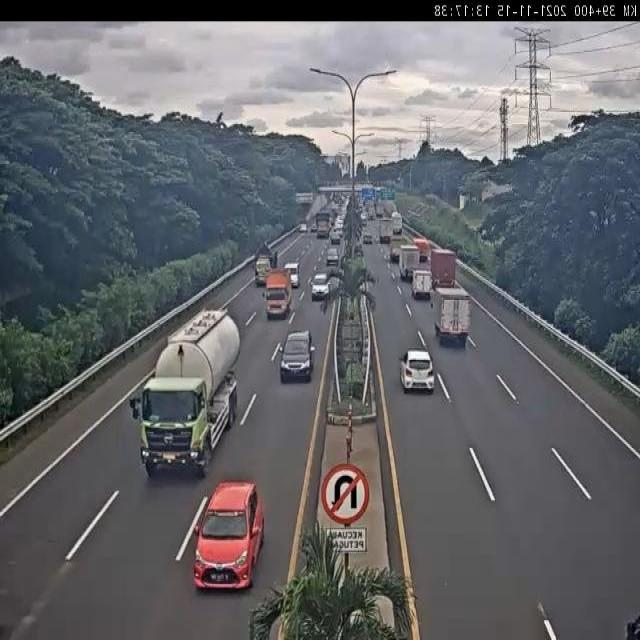Car: (192, 477, 274, 598), (280, 329, 316, 383), (399, 349, 435, 394), (311, 273, 330, 301), (284, 261, 300, 289), (326, 248, 340, 266), (331, 230, 342, 244), (354, 243, 364, 257), (363, 233, 373, 244), (360, 213, 368, 225), (300, 224, 308, 234), (310, 222, 318, 232)
Truck: (135, 302, 247, 480), (432, 284, 470, 346), (250, 243, 278, 288), (433, 247, 459, 290), (266, 278, 290, 321), (414, 268, 436, 299), (402, 248, 421, 282), (316, 209, 335, 239)
